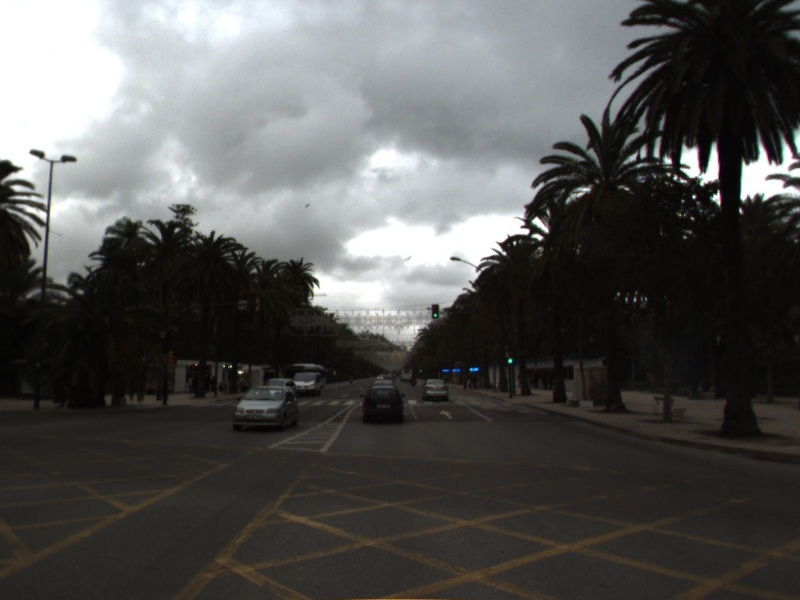STRAIGHT: (437, 408, 456, 421)
